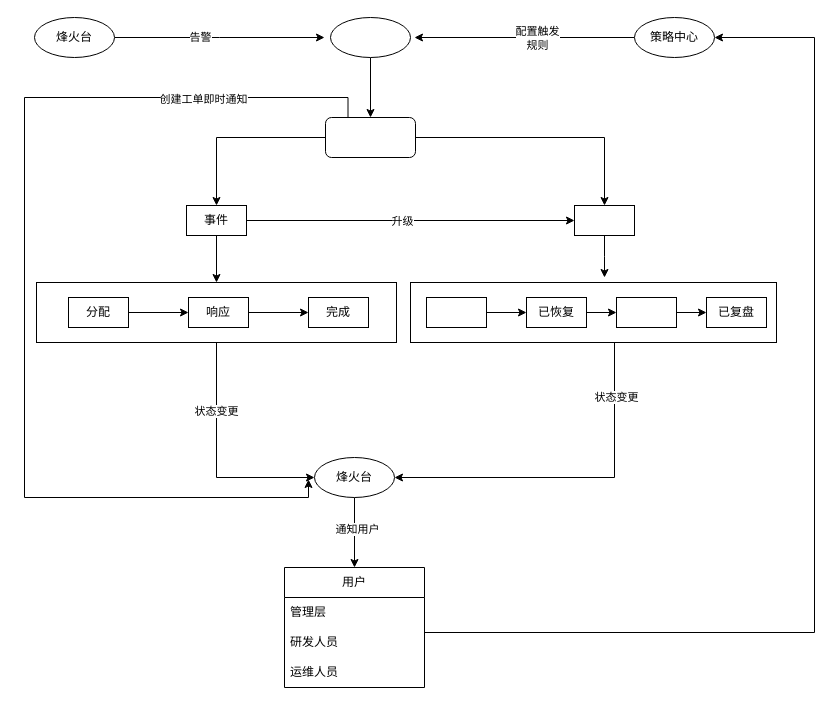
Image size: 840x705. Some labels were removed from this diagram. The shapes that lost their labels are listed below. From the top down, each one's centre as x and y in pixels, then its label:
At (x=370, y=37): "触发规则".
At (x=370, y=137): "创建工单".
At (x=604, y=220): "故障".
At (x=456, y=312): "处理中".
At (x=646, y=312): "复盘中".
